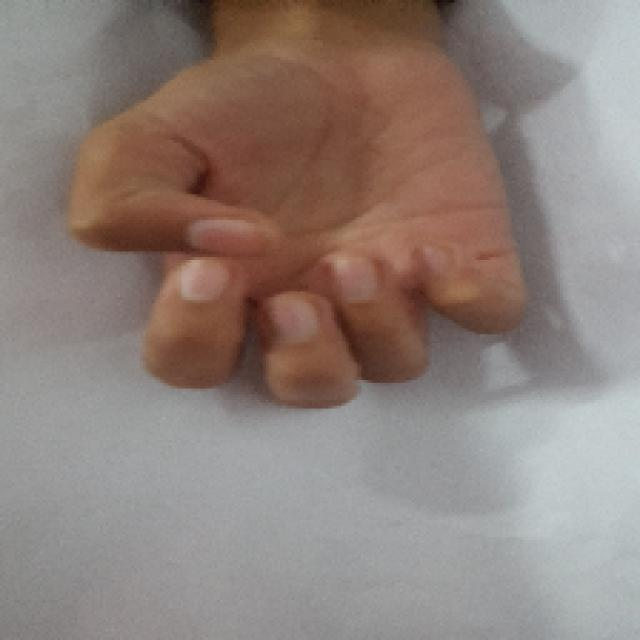Nail: (186, 219, 267, 255), (266, 291, 319, 342), (175, 258, 229, 302), (331, 258, 378, 302), (421, 247, 449, 274)
